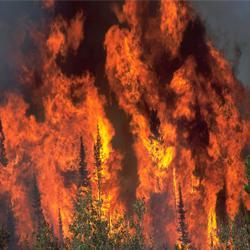fire: (7, 124, 78, 202), (143, 133, 197, 178), (96, 114, 110, 163)
